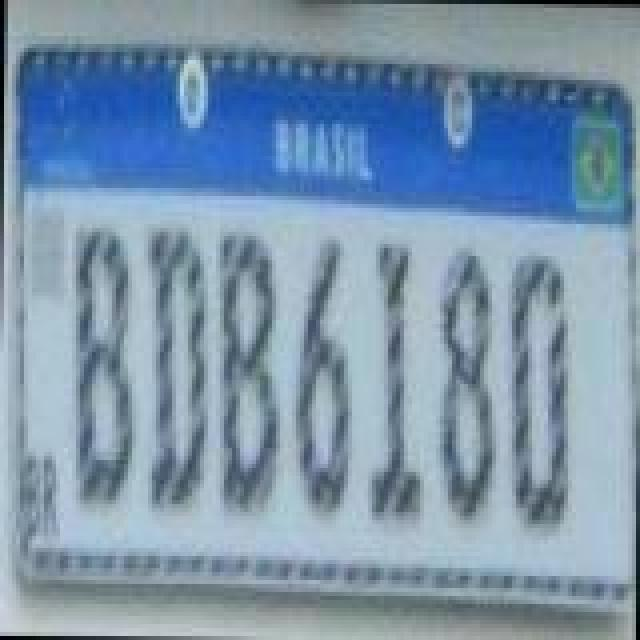6: (292, 232, 356, 520)
8: (432, 246, 496, 522)
B: (212, 226, 284, 518), (70, 220, 138, 508)
D: (140, 222, 212, 514), (502, 246, 570, 530)
I: (364, 240, 428, 528)
